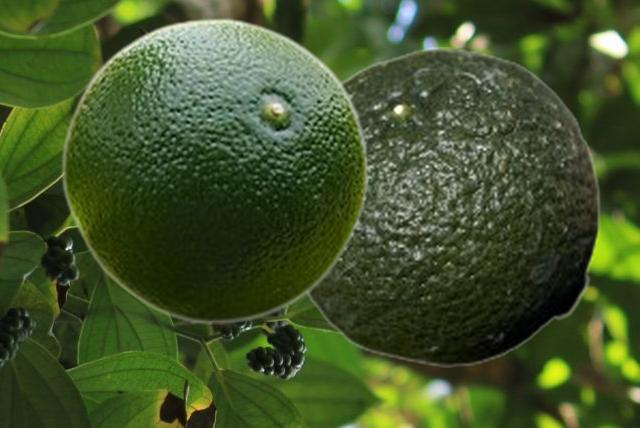calamansi: (60, 17, 369, 323), (305, 47, 600, 366)
